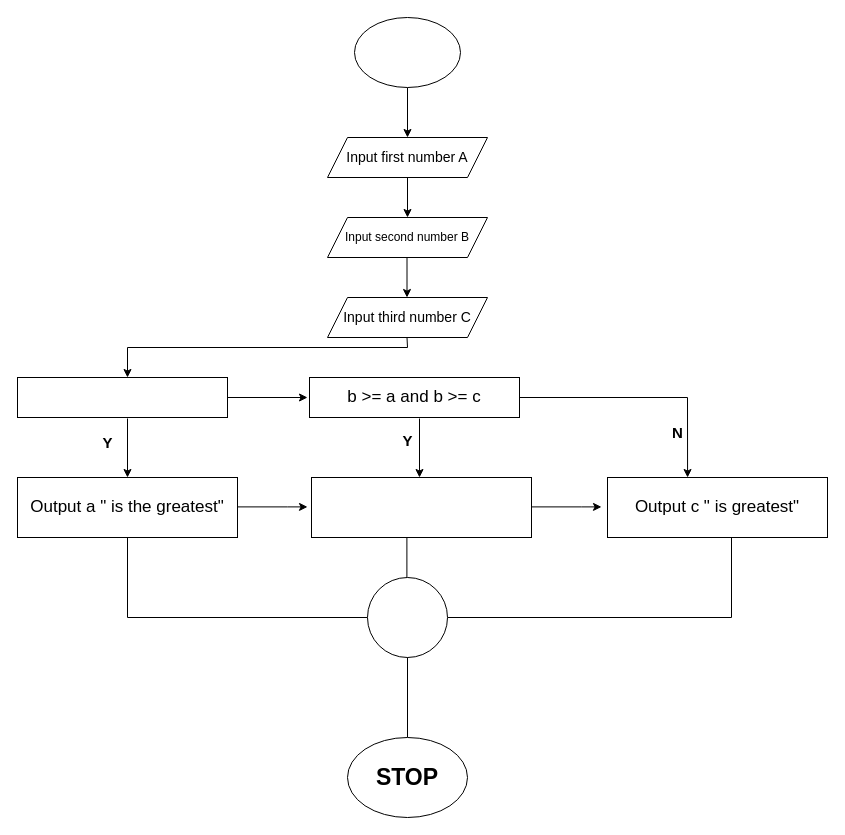
Some shapes in this 845 by 835 pixel diagram are drawn without their labels. Here are the shapes that lost their labels. From the top down, the centre of each, then its label:
(x=407, y=52): START
(x=122, y=397): a >= b and a >= c
(x=421, y=507): Output b " is greatest"
